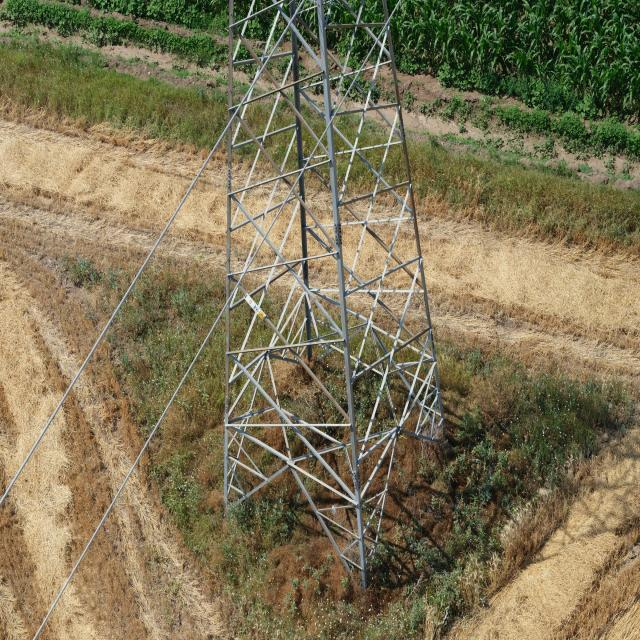voltage_line: (221, 6, 449, 595)
